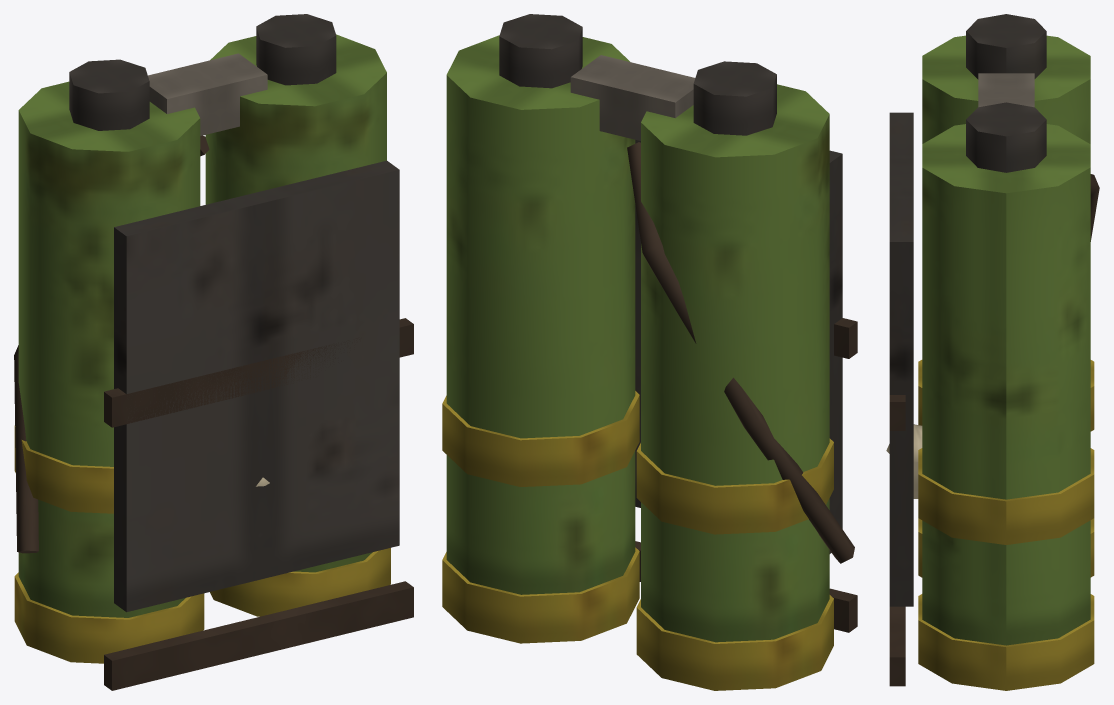
The picture shows the model from 3 angles, left to right: view 1: azimuth 30°, elevation 25°; view 2: azimuth 150°, elevation 25°; view 3: azimuth 270°, elevation 25°; orthographic projection. The views are drawn at different scales.
Parts seen in each view (by area): view 1: raider_gear_chem_tank; view 2: raider_gear_chem_tank; view 3: raider_gear_chem_tank.
Part boxes in pixels (<box>): raider_gear_chem_tank: <box>14,14,413,690</box>; raider_gear_chem_tank: <box>442,14,857,690</box>; raider_gear_chem_tank: <box>886,14,1099,690</box>.
Bounding box in the file's own units: 0.518 × 0.74 × 0.2652.
Materials: 7 (7 with a texture image).
